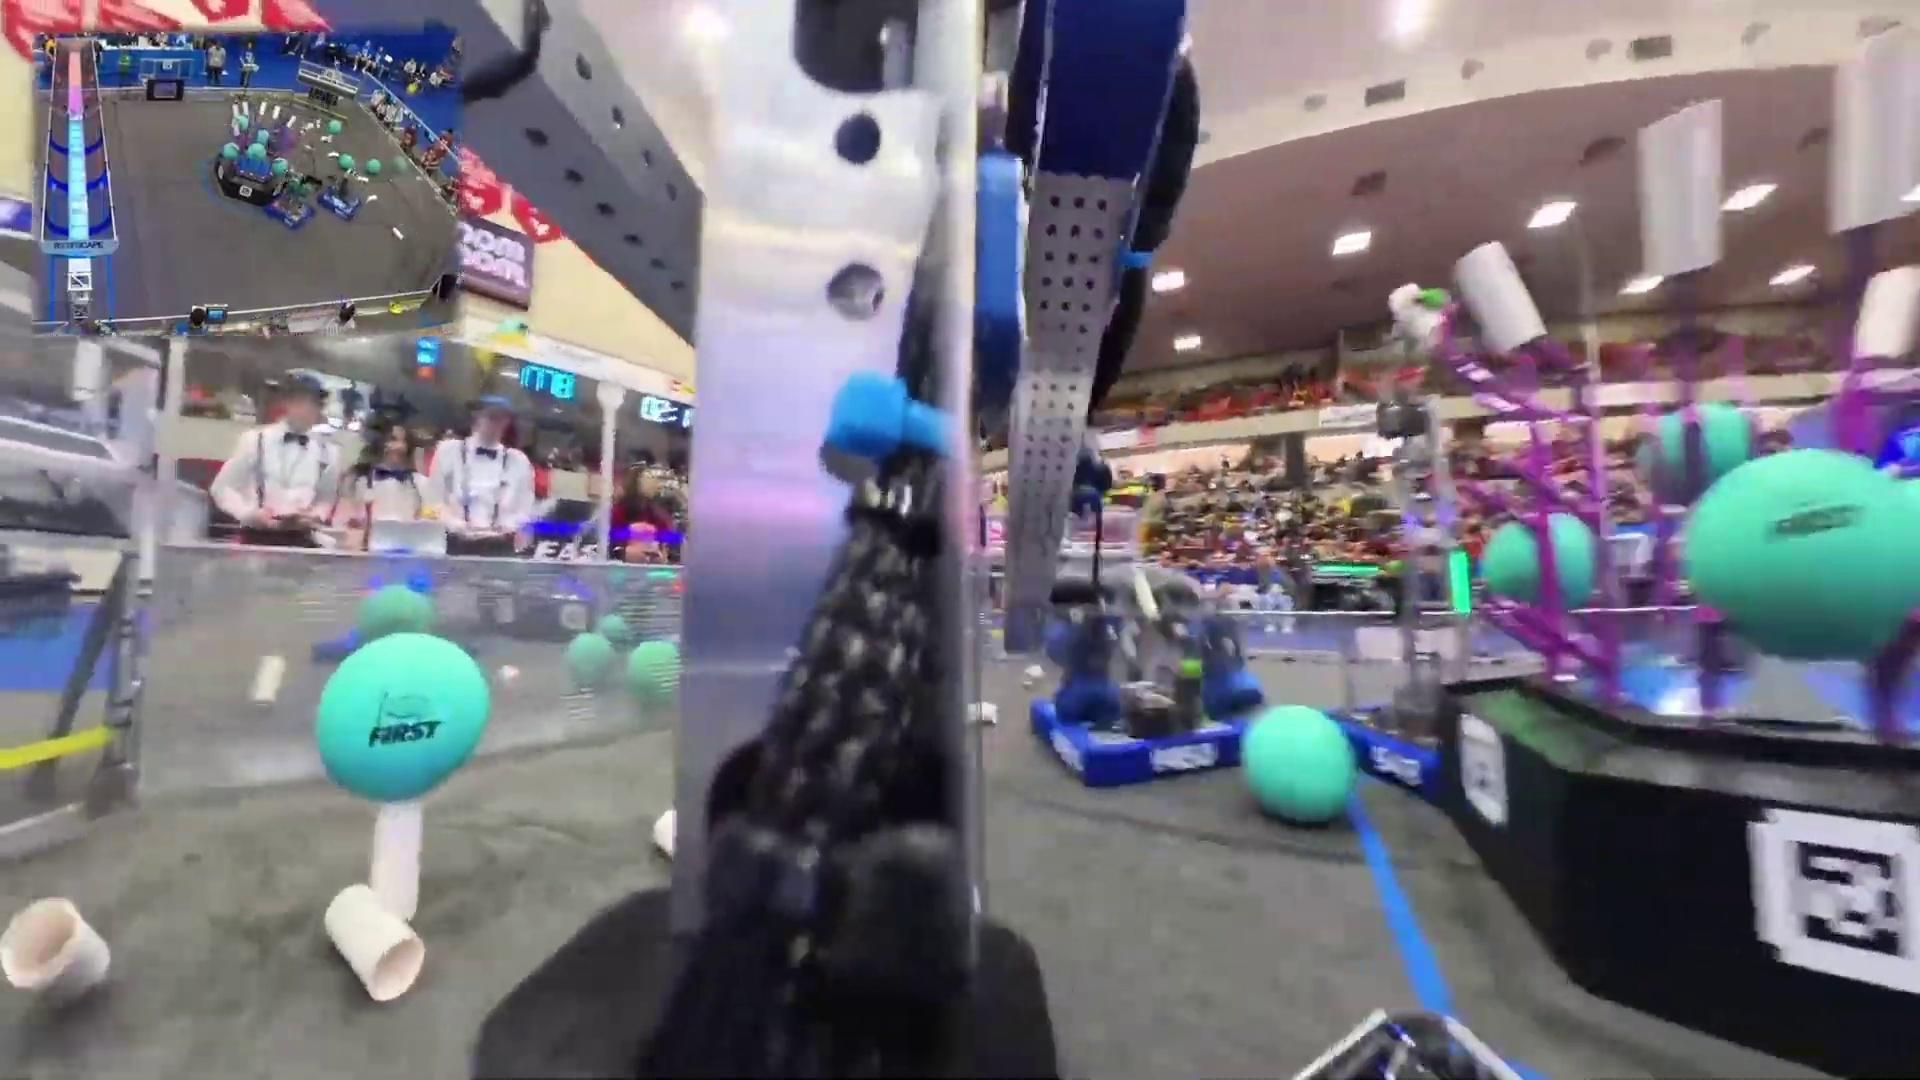robot: (1029, 566, 1246, 793), (1331, 644, 1466, 806), (315, 174, 363, 222), (268, 181, 313, 231)
